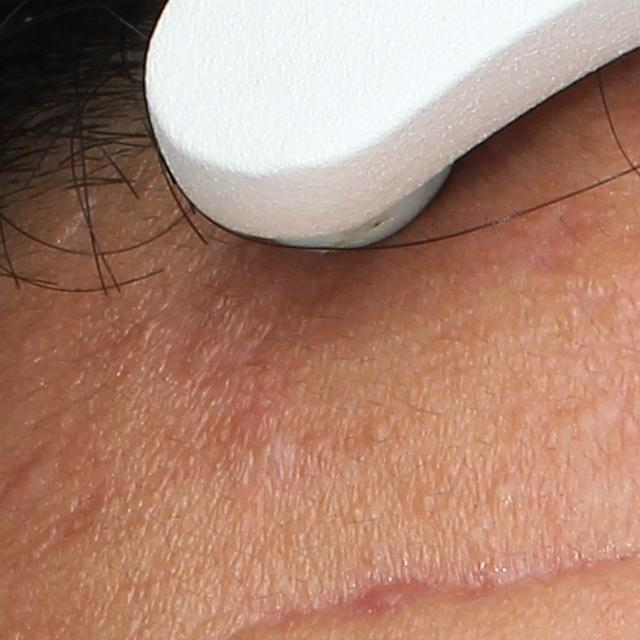comedo: (364, 415, 395, 442), (492, 474, 515, 500), (414, 490, 435, 508)
